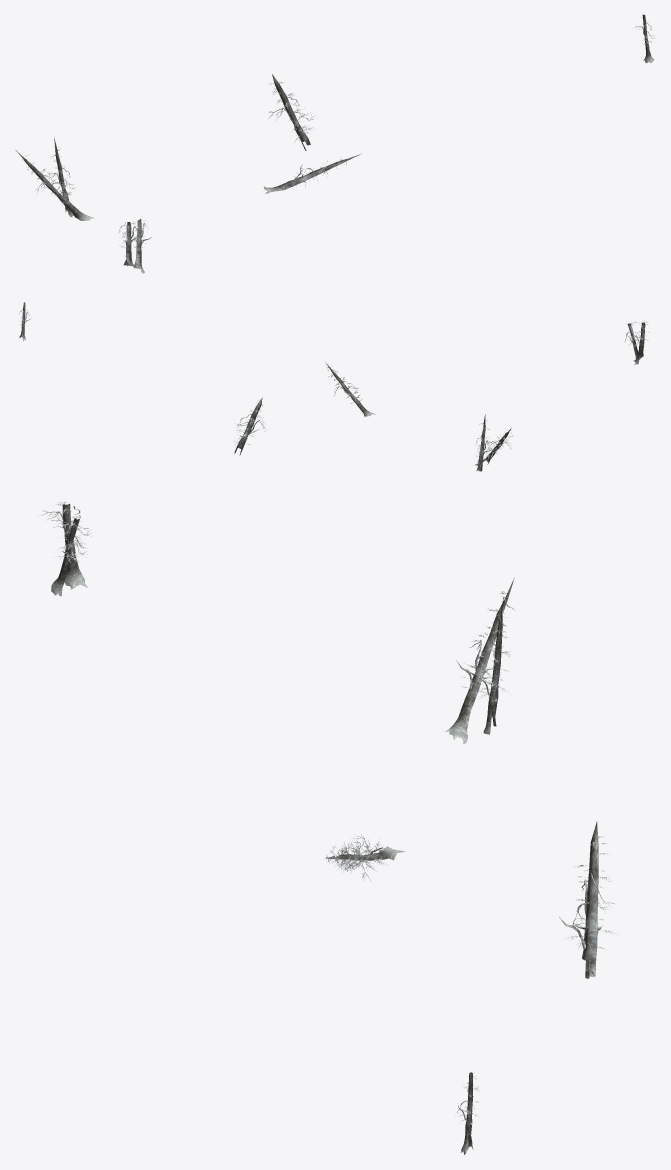
The model's file is S_Tree_White003_2.FBX.
3 renders of one model, top to bottom at view 1: azimuth 30°, elevation 25°; view 2: azimuth 150°, elevation 25°; view 3: azimuth 270°, elevation 25°, orthographic. The views are drawn at different scales.
Parts seen in each view (by area): view 1: S_Tree_White003_005, S_Tree_White003_006, S_Tree_White003_004, S_Tree_White003_08, S_Tree_White003_001; view 2: S_Tree_White003_005, S_Tree_White003_004, S_Tree_White003_006, S_Tree_White003_08, S_Tree_White003_001; view 3: S_Tree_White003_005, S_Tree_White003_006, S_Tree_White003_004, S_Tree_White003_08, S_Tree_White003_001.
Boxes of the visible parts, x1,y1,x2,y2 form: S_Tree_White003_005: (267, 74, 314, 150); S_Tree_White003_006: (15, 150, 94, 220); S_Tree_White003_004: (263, 153, 361, 193); S_Tree_White003_08: (47, 137, 76, 217); S_Tree_White003_001: (118, 222, 142, 268); S_Tree_White003_005: (232, 397, 266, 455); S_Tree_White003_004: (325, 362, 375, 416); S_Tree_White003_006: (474, 427, 513, 465); S_Tree_White003_08: (475, 414, 492, 471); S_Tree_White003_001: (633, 320, 650, 364); S_Tree_White003_005: (559, 821, 617, 978); S_Tree_White003_006: (445, 577, 514, 743); S_Tree_White003_004: (324, 834, 405, 880); S_Tree_White003_08: (477, 597, 511, 734); S_Tree_White003_001: (39, 501, 91, 589).
Size of the model in its own units: 15031 by 7227 by 2799.
